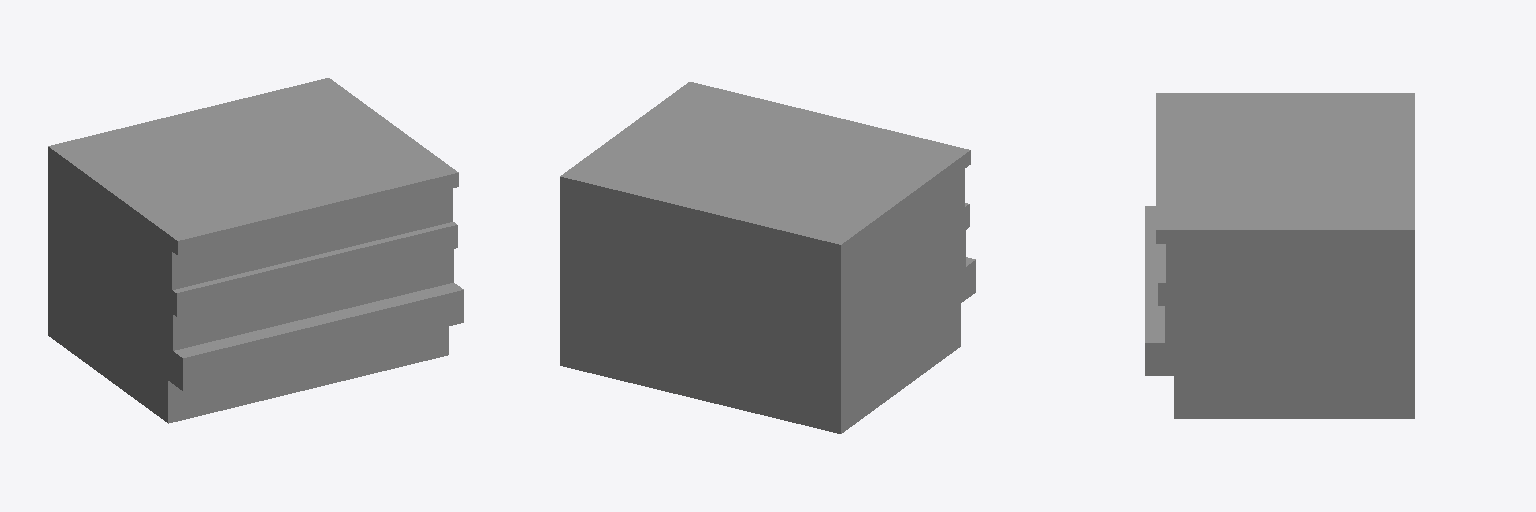
Rendered from edificio555.obj.
3 views of the same model, side by side, from view 1: azimuth 30°, elevation 25°; view 2: azimuth 150°, elevation 25°; view 3: azimuth 270°, elevation 25° (orthographic).
Visible parts, largest first — view 1: Cubo.004_Cubo.046; view 2: Cubo.004_Cubo.046; view 3: Cubo.004_Cubo.046.
Part boxes in pixels (bbox=[...]): Cubo.004_Cubo.046: bbox=[48, 78, 463, 423]; Cubo.004_Cubo.046: bbox=[560, 82, 975, 433]; Cubo.004_Cubo.046: bbox=[1145, 93, 1414, 418].
Bounding box in the file's own units: 15.73 × 10.13 × 13.09.